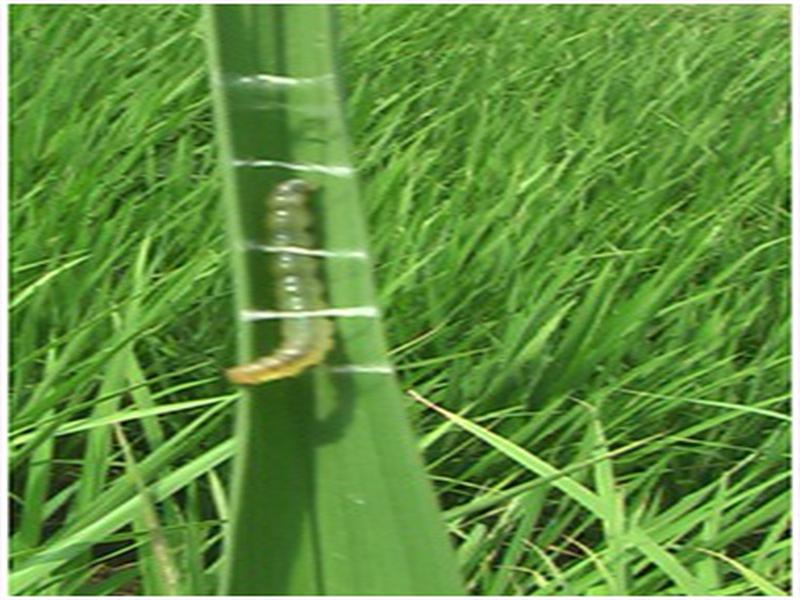Leaf_folder: (222, 164, 345, 394)
